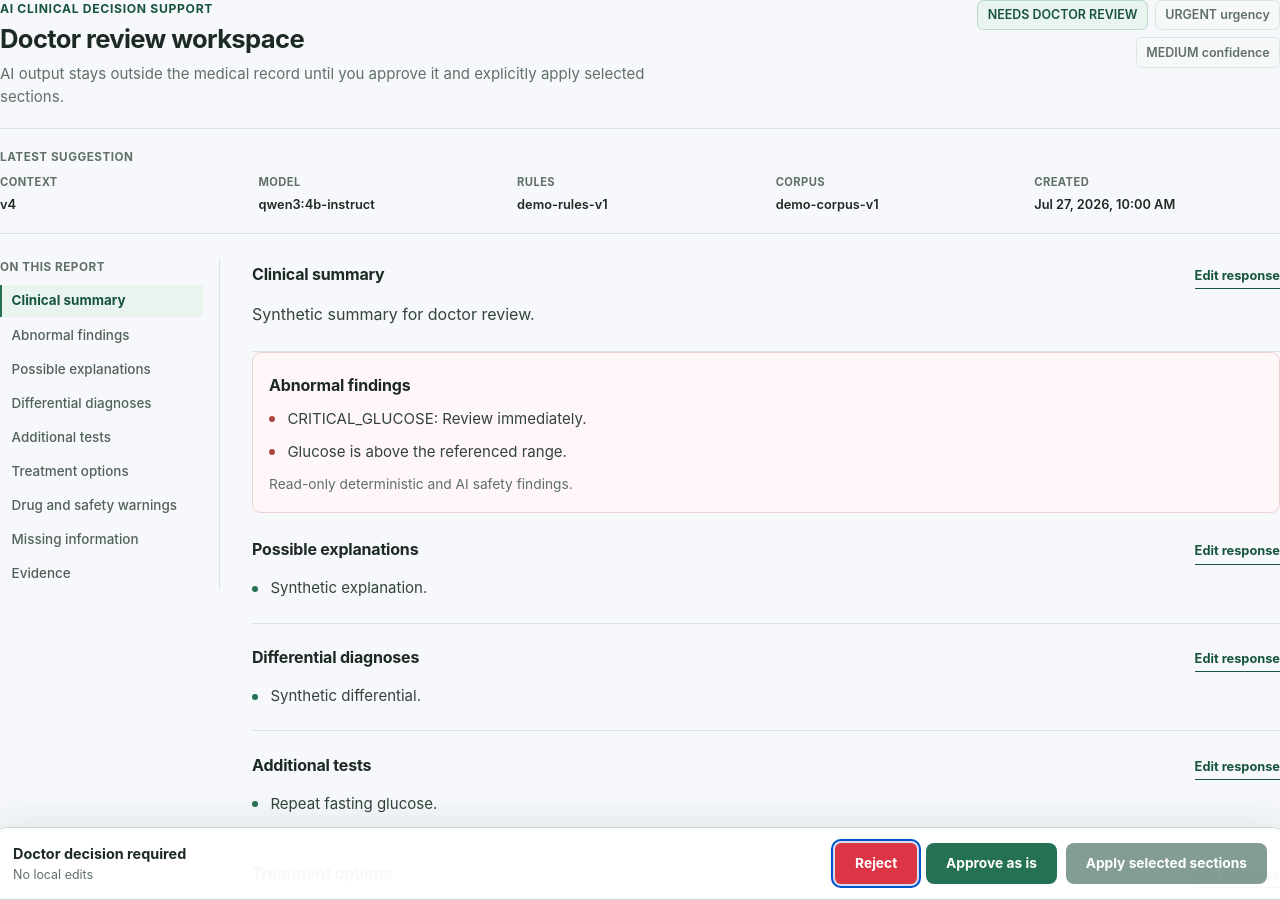
Test case: CdsSuggestionReviewPanel › moves focus into a review dialog and restores it when Escape closes the dialog
The width and height of the screenshot is (1280, 900).
Click the button "Reject" at (876, 864), box [835,844,917,884]
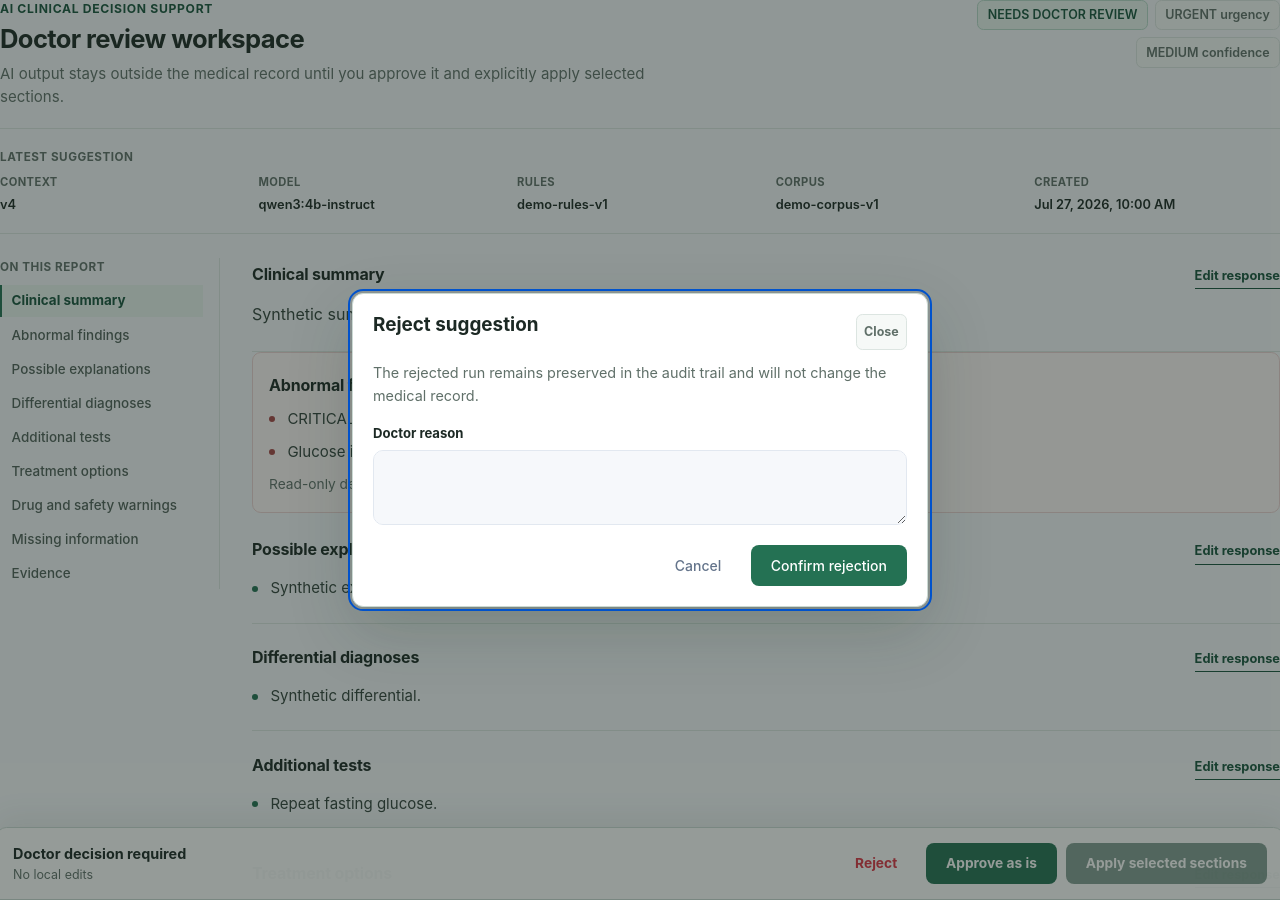
Press Escape in the dialog "Reject suggestion", box [352,293,928,607]
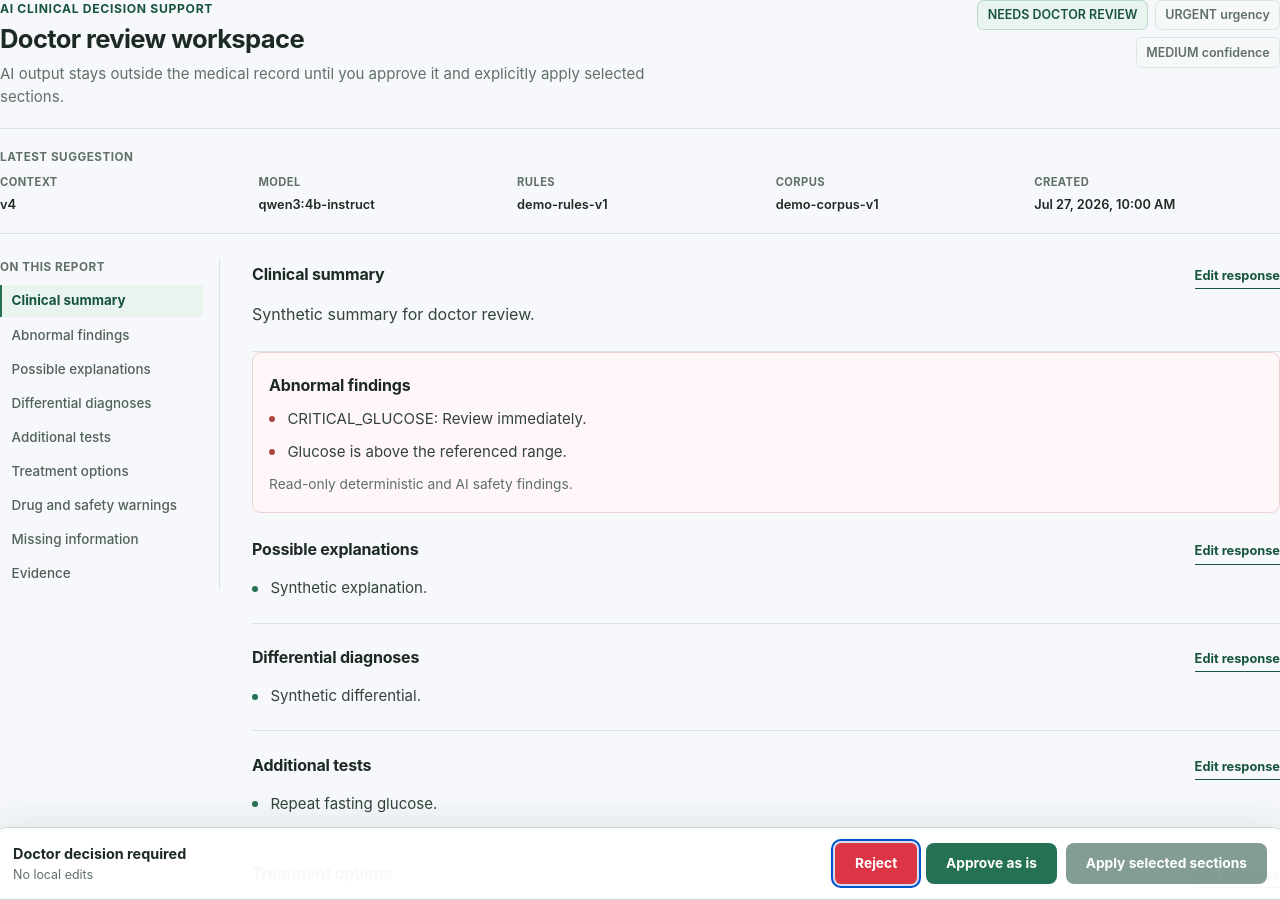
Expected: the heading "Reject suggestion" is gone
